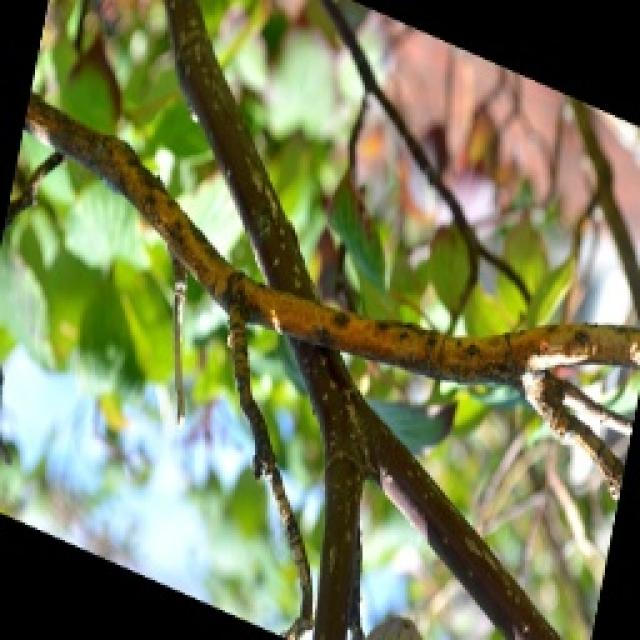Golden_canker: (25, 61, 640, 547)
